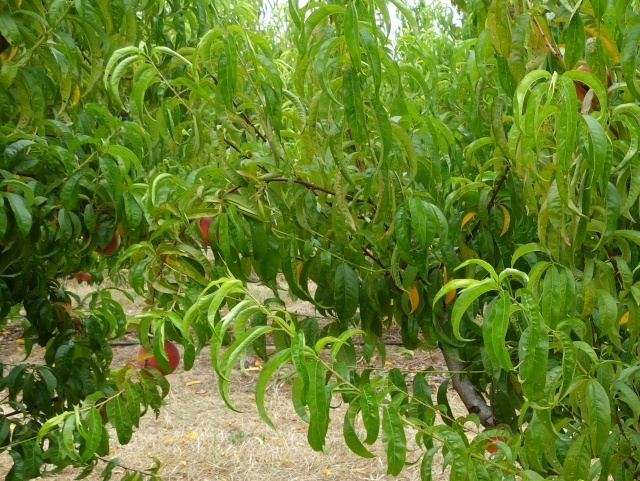peach: (132, 335, 182, 381), (568, 59, 617, 103), (80, 224, 122, 257), (191, 212, 220, 250)
